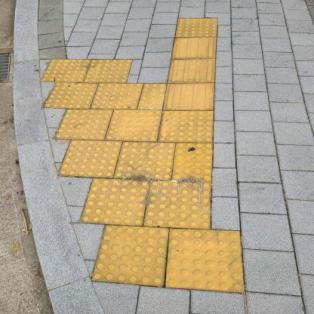Podoctatil: (35, 12, 254, 297)
